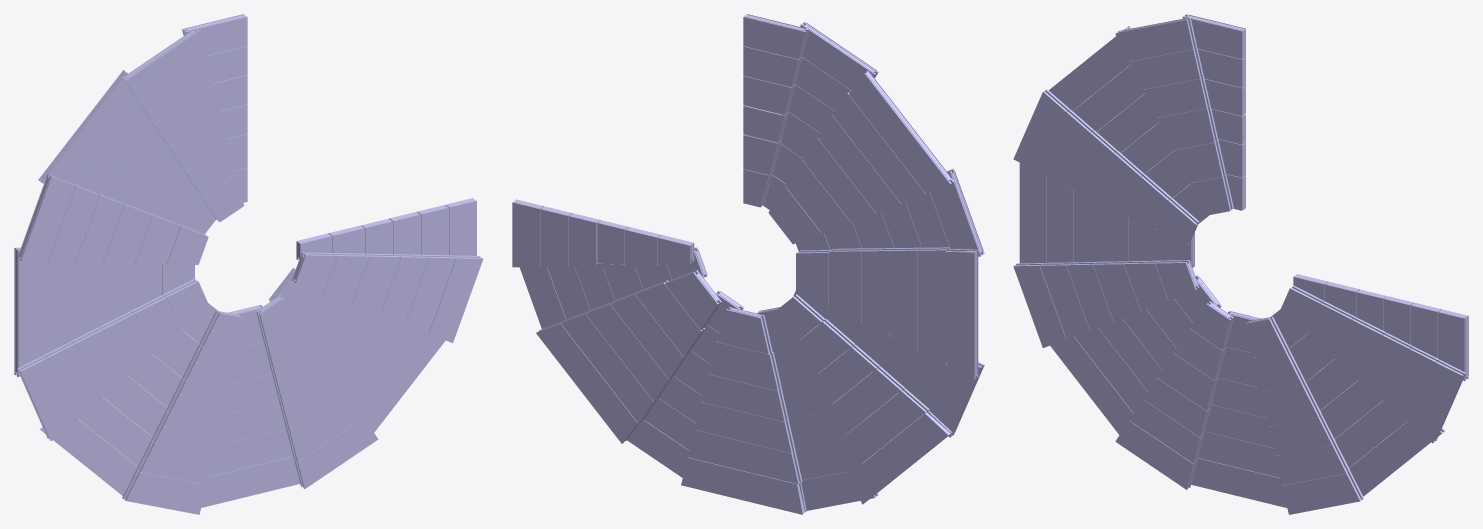
Rendered from Outer-Wheel-SideA-cut3.glb.
3 views of the same model, side by side, from view 1: azimuth 30°, elevation 25°; view 2: azimuth 150°, elevation 25°; view 3: azimuth 330°, elevation 25° (orthographic). The views are drawn at different scales.
Parts seen in each view (by area): view 1: null; view 2: null; view 3: null.
Part boxes in pixels (left/top/right/bottom): null: left=14, top=14, right=483, bottom=514; null: left=512, top=14, right=984, bottom=514; null: left=1013, top=14, right=1468, bottom=514.
Bounding box in the file's own units: 24.37 × 24.38 × 0.7801.
